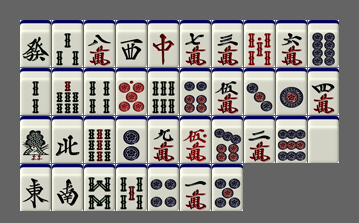0m: (180, 116, 211, 163)
0p: (116, 68, 147, 115)
0s: (244, 20, 275, 67)
1m: (180, 164, 211, 211)
1p: (276, 68, 307, 115)
1s: (20, 116, 51, 163)
1z: (20, 164, 51, 211)
2m: (244, 116, 275, 163)
2p: (116, 116, 147, 163)
2s: (20, 68, 51, 115)
2z: (52, 164, 83, 211)
3m: (212, 20, 243, 67)
3p: (244, 68, 275, 115)
3s: (52, 20, 83, 67)
3z: (116, 20, 147, 67)
4m: (308, 68, 339, 115)
4p: (148, 164, 179, 211)
4s: (84, 68, 115, 115)
4z: (52, 116, 83, 163)
5m: (212, 68, 243, 115)
5p: (212, 164, 243, 211)
5s: (116, 164, 147, 211)
5z: (308, 116, 339, 163)
6m: (276, 20, 307, 67)
6p: (180, 68, 211, 115)
6s: (148, 68, 179, 115)
6z: (20, 20, 51, 67)
7m: (180, 20, 211, 67)
7p: (212, 116, 243, 163)
7s: (52, 68, 83, 115)
7z: (148, 20, 179, 67)
8m: (84, 20, 115, 67)
8p: (308, 20, 339, 67)
8s: (84, 164, 115, 211)
9m: (148, 116, 179, 163)
9p: (276, 116, 307, 163)
9s: (84, 116, 115, 163)
